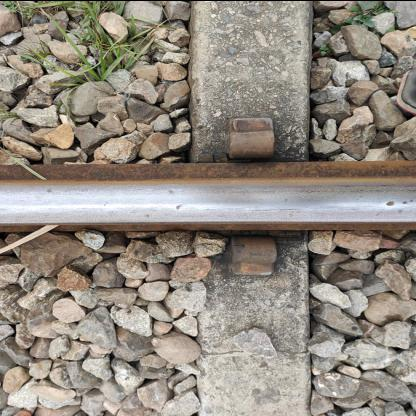Defective 1: (224, 106, 288, 162), (224, 225, 287, 280)
